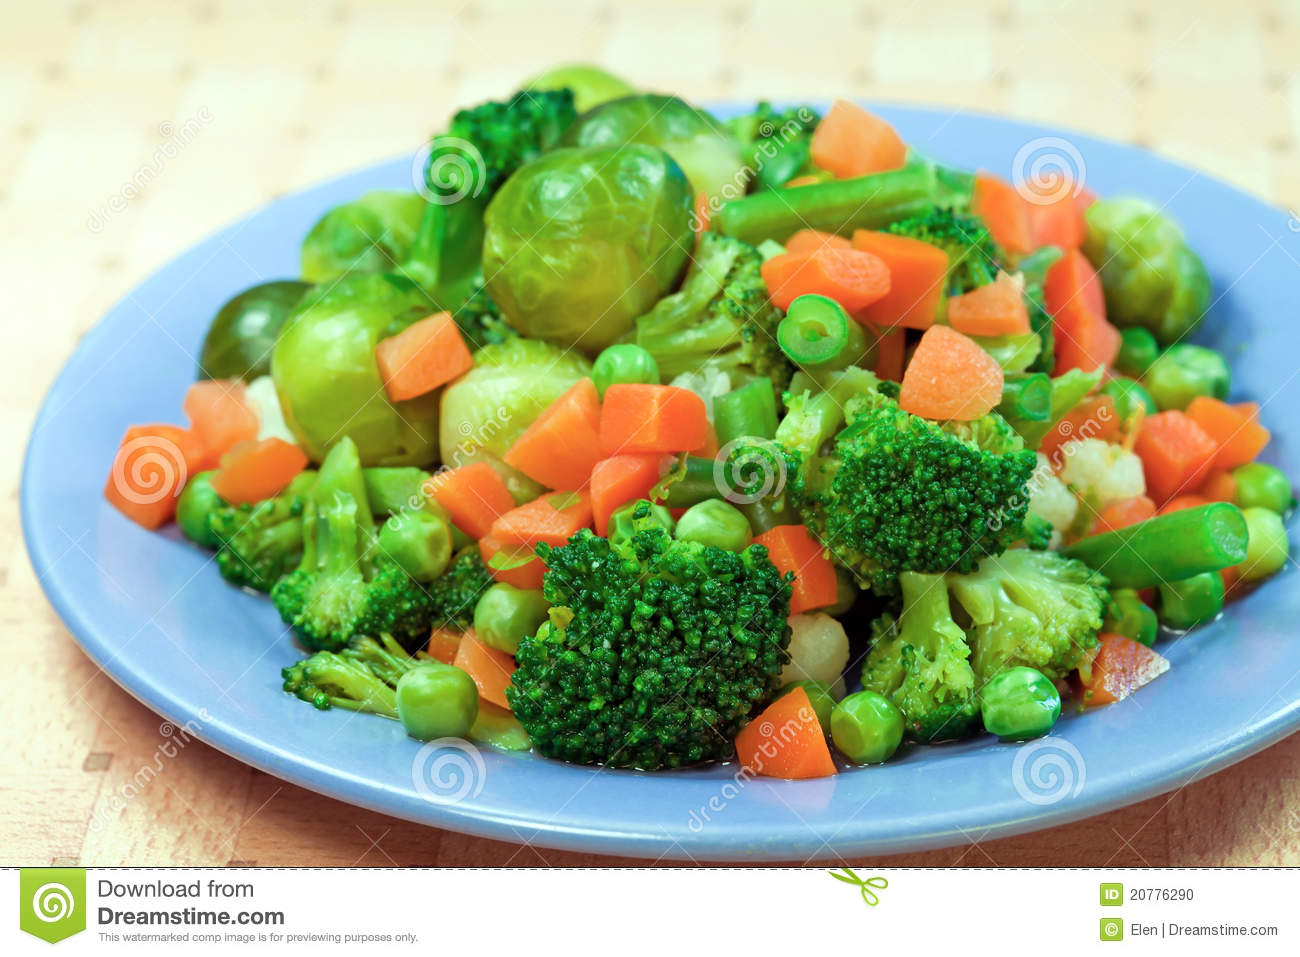boiled peas: (978, 664, 1061, 739), (398, 668, 478, 740), (380, 503, 446, 583), (676, 496, 750, 565), (468, 587, 545, 651), (828, 696, 903, 756), (1151, 572, 1221, 621), (589, 342, 653, 391), (1112, 591, 1159, 637)
